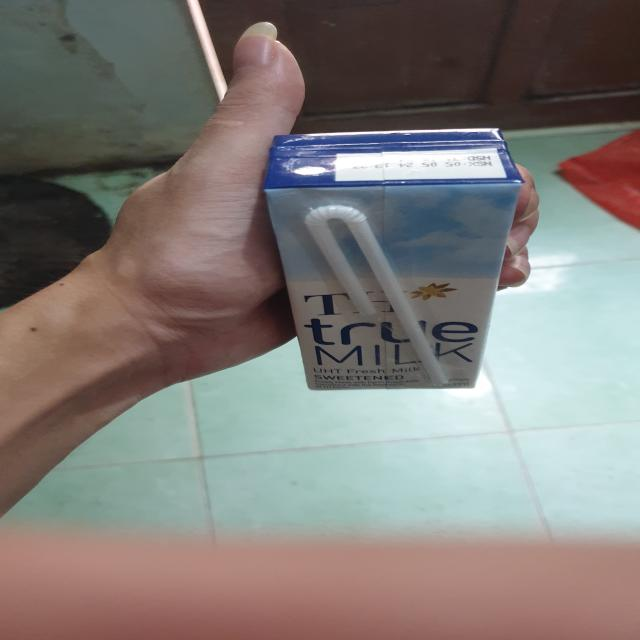TH: (259, 128, 524, 391)
